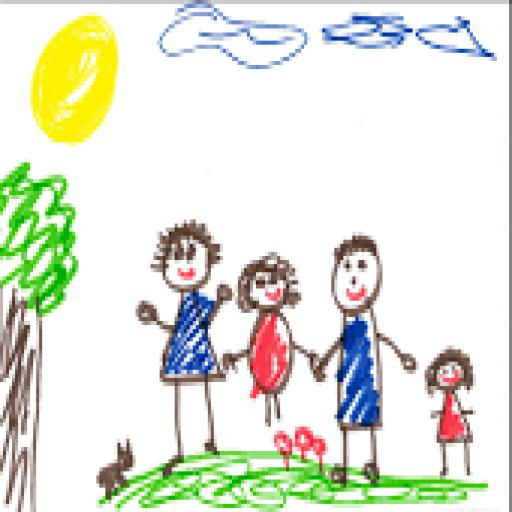person: (135, 215, 234, 479), (323, 231, 417, 483), (222, 248, 321, 428), (426, 342, 480, 480)
